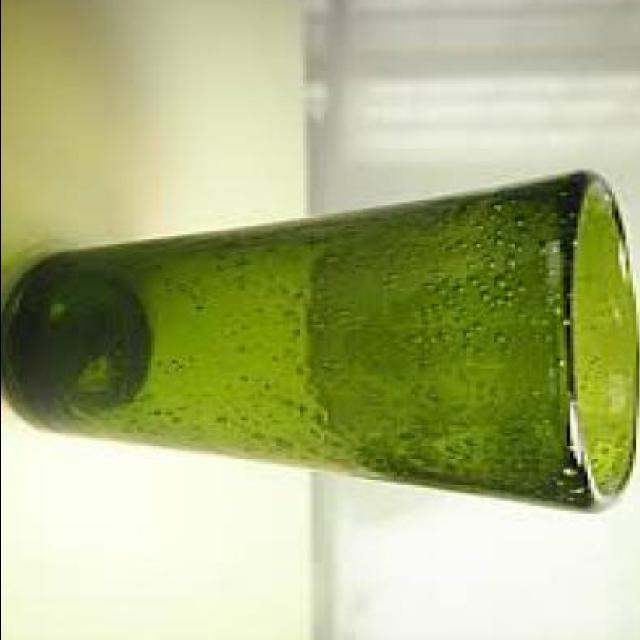kaca: (2, 175, 640, 514)
